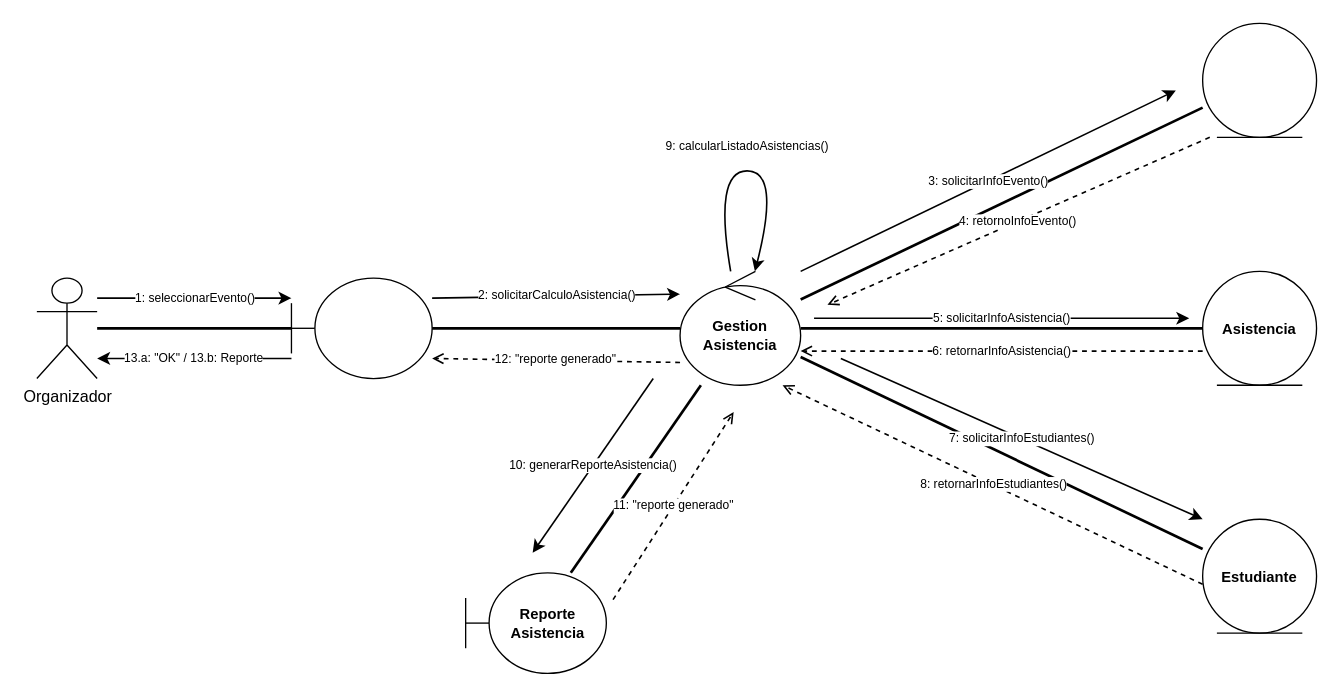
This 1340x697 diagram has some shape labels left out. The shapes that lost their labels are listed below. From the top down, each one's centre as x and y in pixels, then its label:
At (x=1259, y=79): "Evento".
At (x=361, y=328): "Pantalla Evento Organizador".
